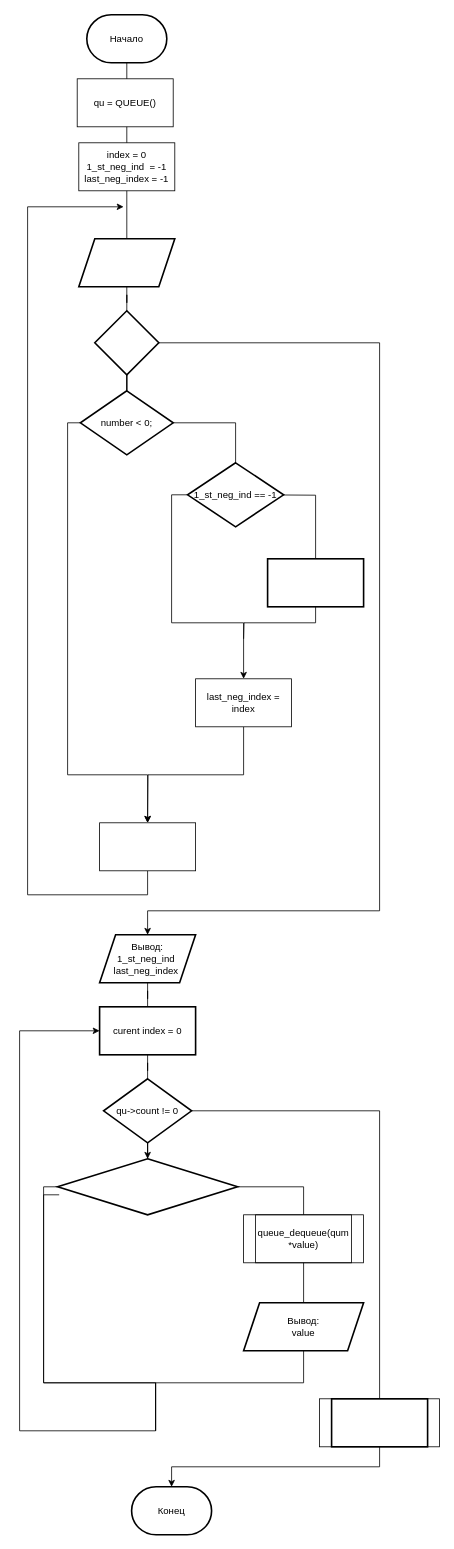
Image size: 454x1549. Some labels were removed from this diagram. Here are the shapes that lost their labels. From the top down, the box of each, then its label:
(78, 238, 175, 287): Ввод: number
(94, 310, 159, 375): number == 1
(266, 558, 364, 607): 1_st_neg_ind = index
(99, 822, 196, 871): index = inedx + 1
(56, 1158, 238, 1215): curent_index >= 1_st_neg_ind && curent_index <= last_nge_index
(330, 1398, 428, 1447): queue_destroy(qu)
